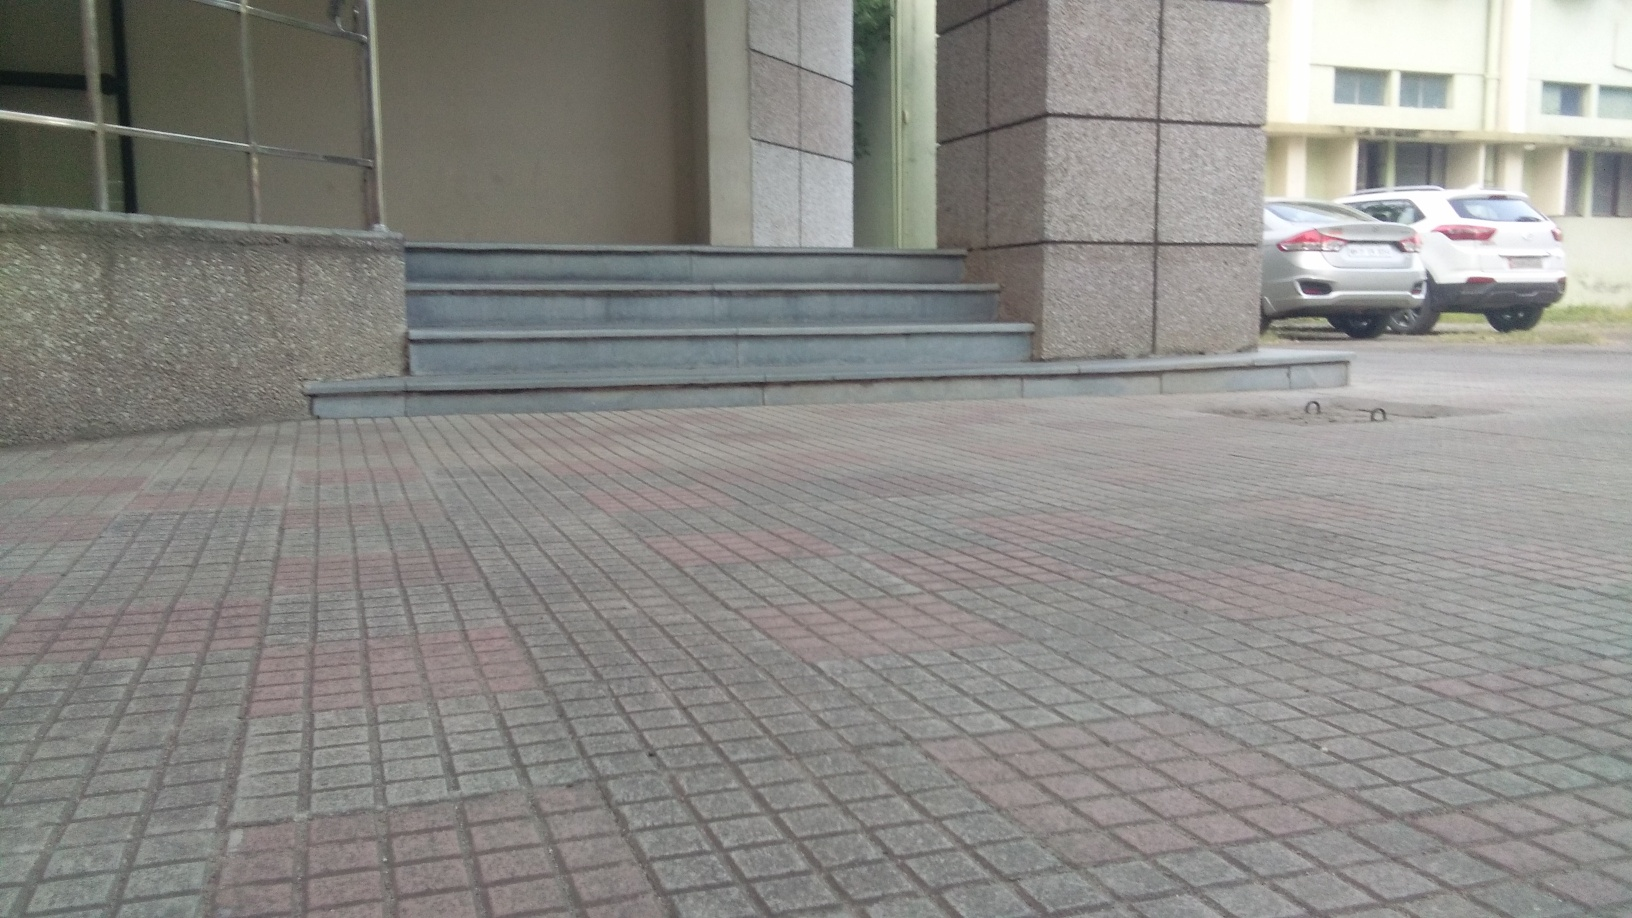stairs_up: (390, 232, 1067, 391)
